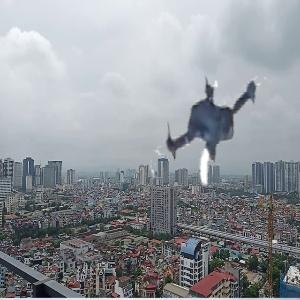drone: (137, 59, 285, 207)
